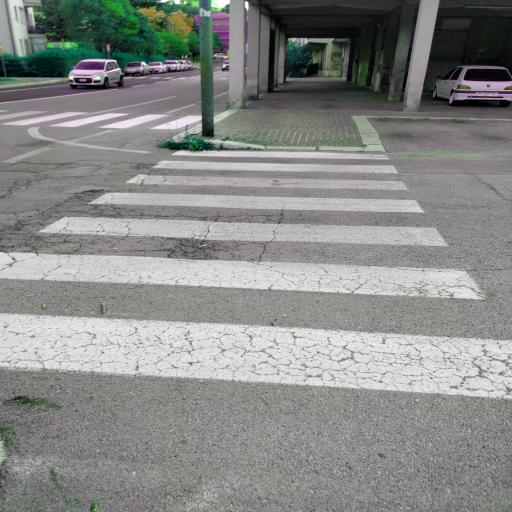crosswalk: (16, 190, 460, 254)
